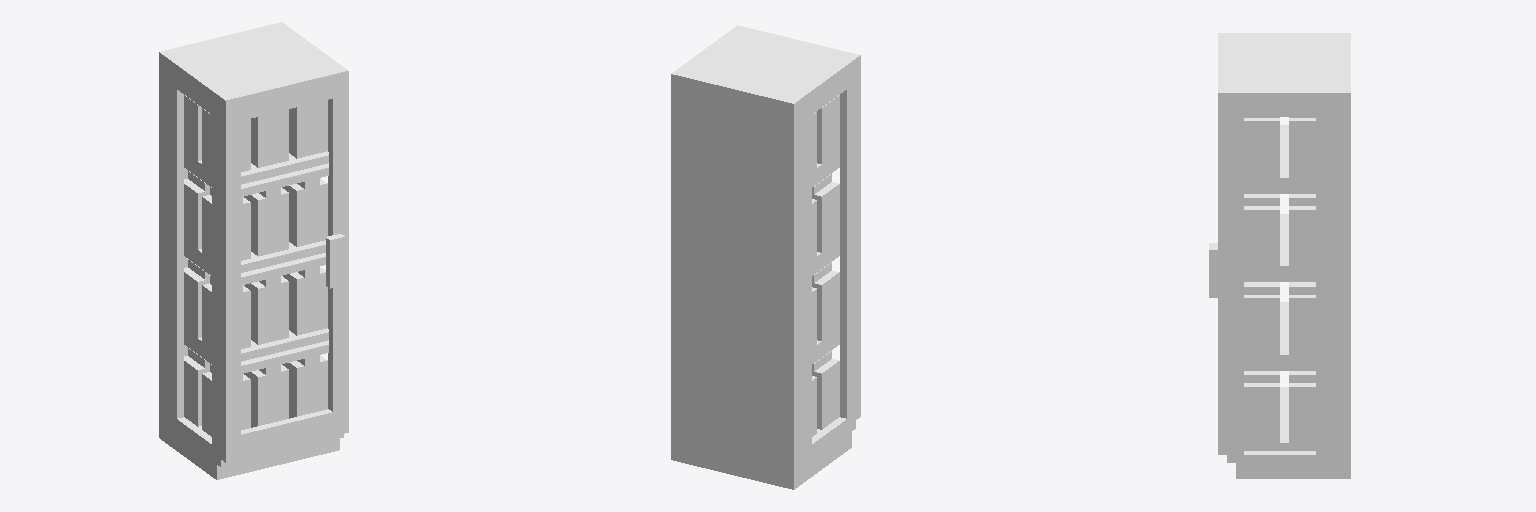
Rendered from fullMilkShelfAnimAttempt.obj.
3 views of the same model, side by side, from view 1: azimuth 30°, elevation 25°; view 2: azimuth 150°, elevation 25°; view 3: azimuth 270°, elevation 25° (orthographic).
Visible parts, largest first — view 1: object 1; view 2: object 1; view 3: object 1.
Part boxes in pixels (left/top/right/bottom): object 1: left=159, top=22, right=348, bottom=479; object 1: left=671, top=25, right=860, bottom=489; object 1: left=1209, top=33, right=1350, bottom=478.
Bounding box in the file's own units: 1.6 × 4.8 × 1.6.